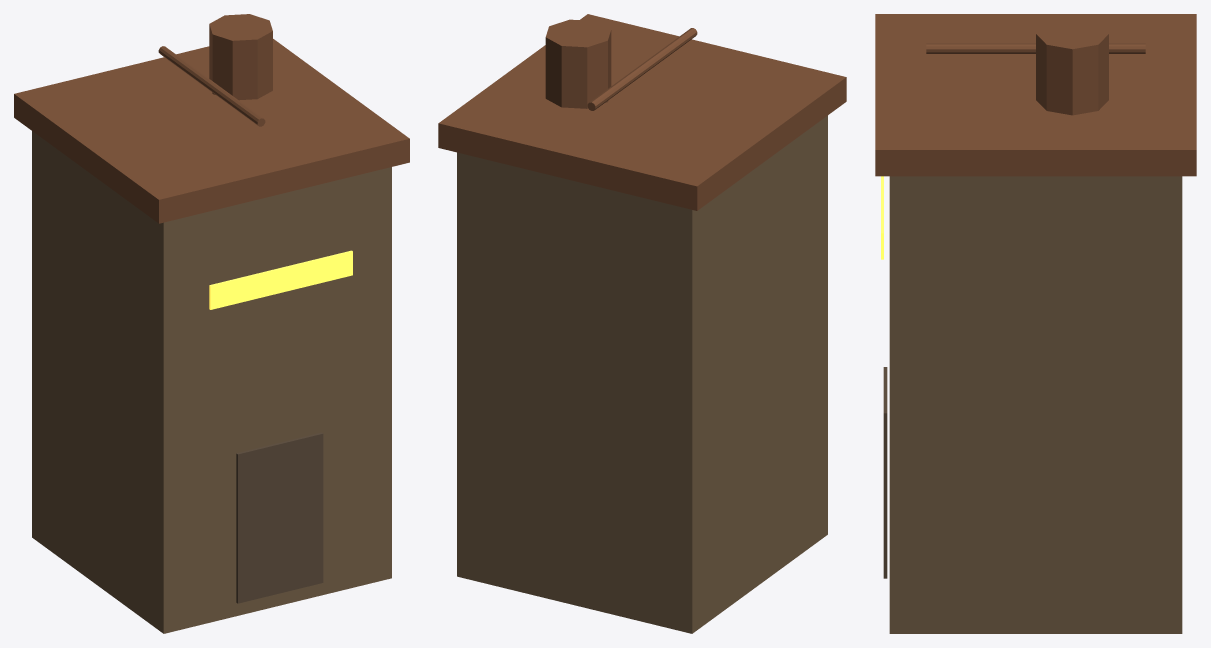
The model's file is SLUM_BLD_Shack_SM.glb.
3 views of the same model, side by side, from view 1: azimuth 30°, elevation 25°; view 2: azimuth 150°, elevation 25°; view 3: azimuth 270°, elevation 25° (orthographic). The views are drawn at different scales.
Visible parts, largest first — view 1: SLUM_BLD_Shack_SM; view 2: SLUM_BLD_Shack_SM; view 3: SLUM_BLD_Shack_SM.
Boxes of the visible parts, left/top/right/bottom form: SLUM_BLD_Shack_SM: left=14, top=14, right=409, bottom=633; SLUM_BLD_Shack_SM: left=438, top=14, right=846, bottom=633; SLUM_BLD_Shack_SM: left=875, top=14, right=1196, bottom=633.
Size of the model in its own units: 4.4 by 8.5 by 4.4.
